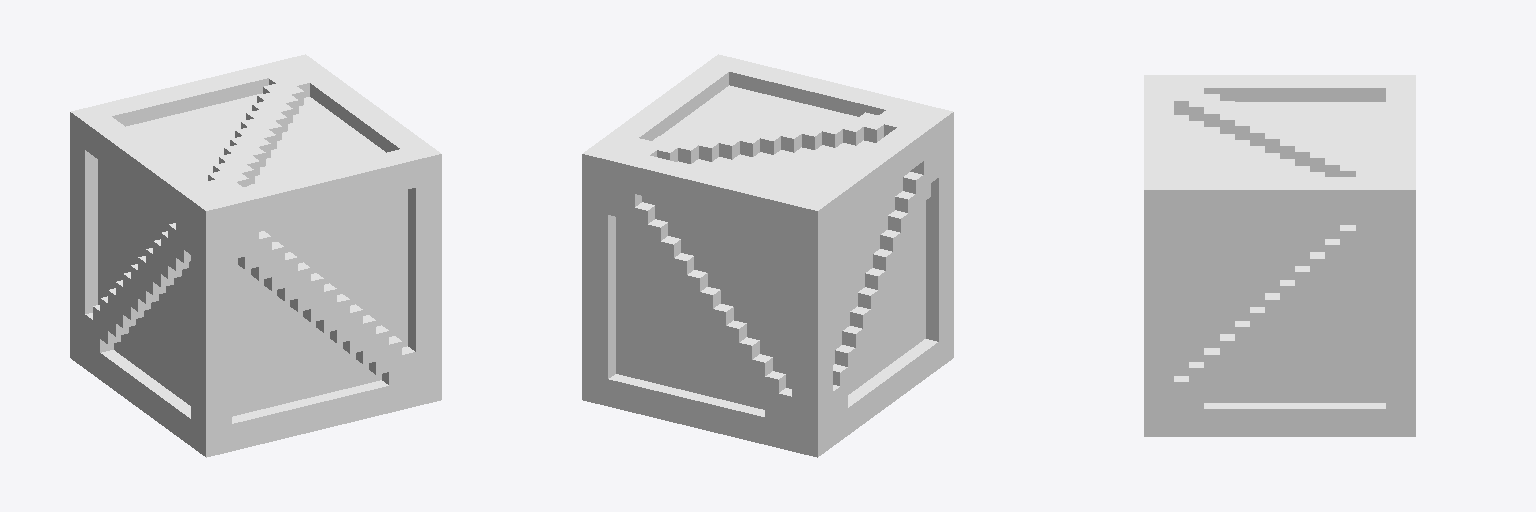
The model's file is Let-3.obj.
3 renders of one model, left to right at view 1: azimuth 30°, elevation 25°; view 2: azimuth 150°, elevation 25°; view 3: azimuth 270°, elevation 25°, orthographic.
Parts seen in each view (by area): view 1: object 1; view 2: object 1; view 3: object 1.
Boxes of the visible parts, x1,y1,x2,y2 form: object 1: [70, 54, 441, 457]; object 1: [582, 54, 953, 457]; object 1: [1144, 75, 1415, 436].
Size of the model in its own units: 1.8 by 1.8 by 1.8.